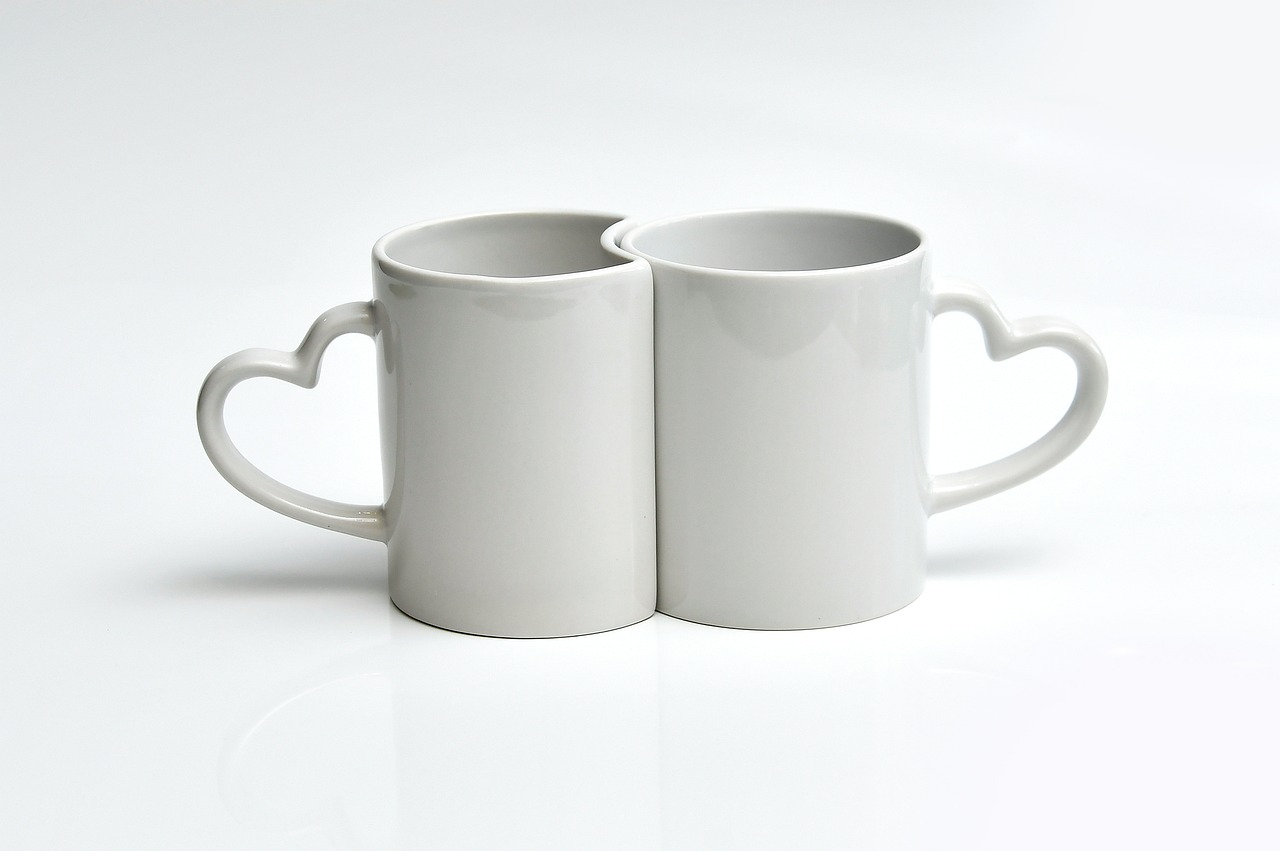mug: (177, 158, 669, 711), (609, 183, 1105, 687)
